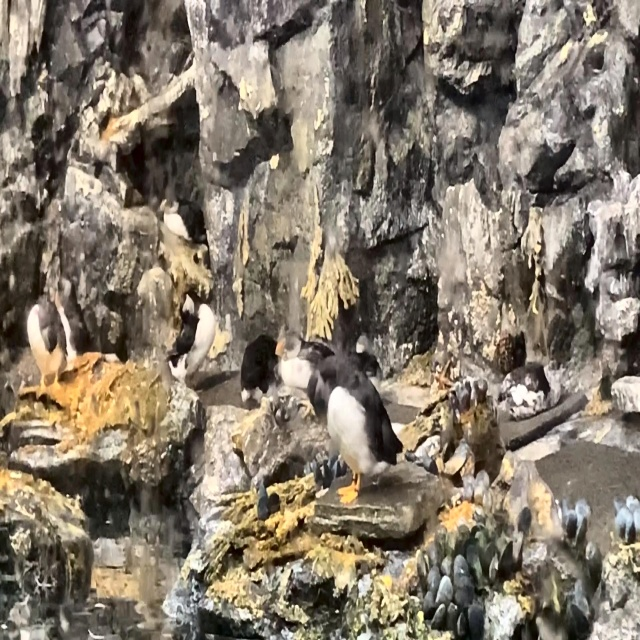puffin: (306, 356, 404, 505), (165, 287, 217, 388), (274, 326, 336, 407), (498, 356, 563, 423), (26, 289, 68, 389), (50, 270, 95, 363), (154, 186, 206, 255), (235, 331, 278, 405)
